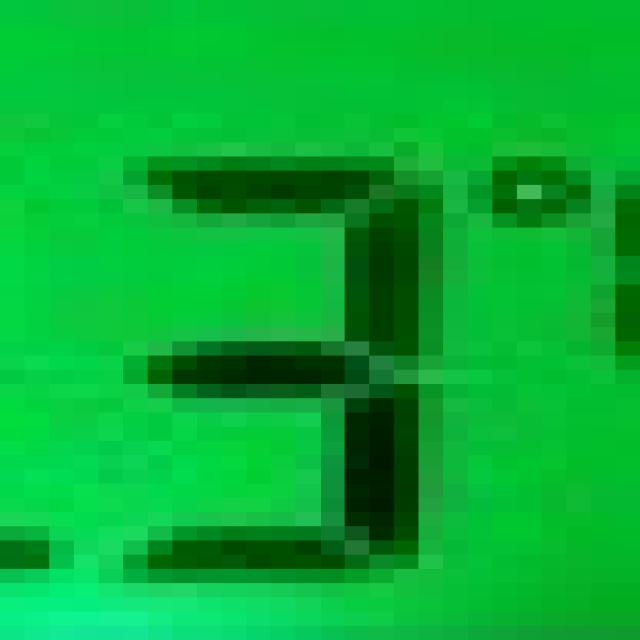.: (2, 523, 78, 591)
3: (74, 150, 468, 604)
